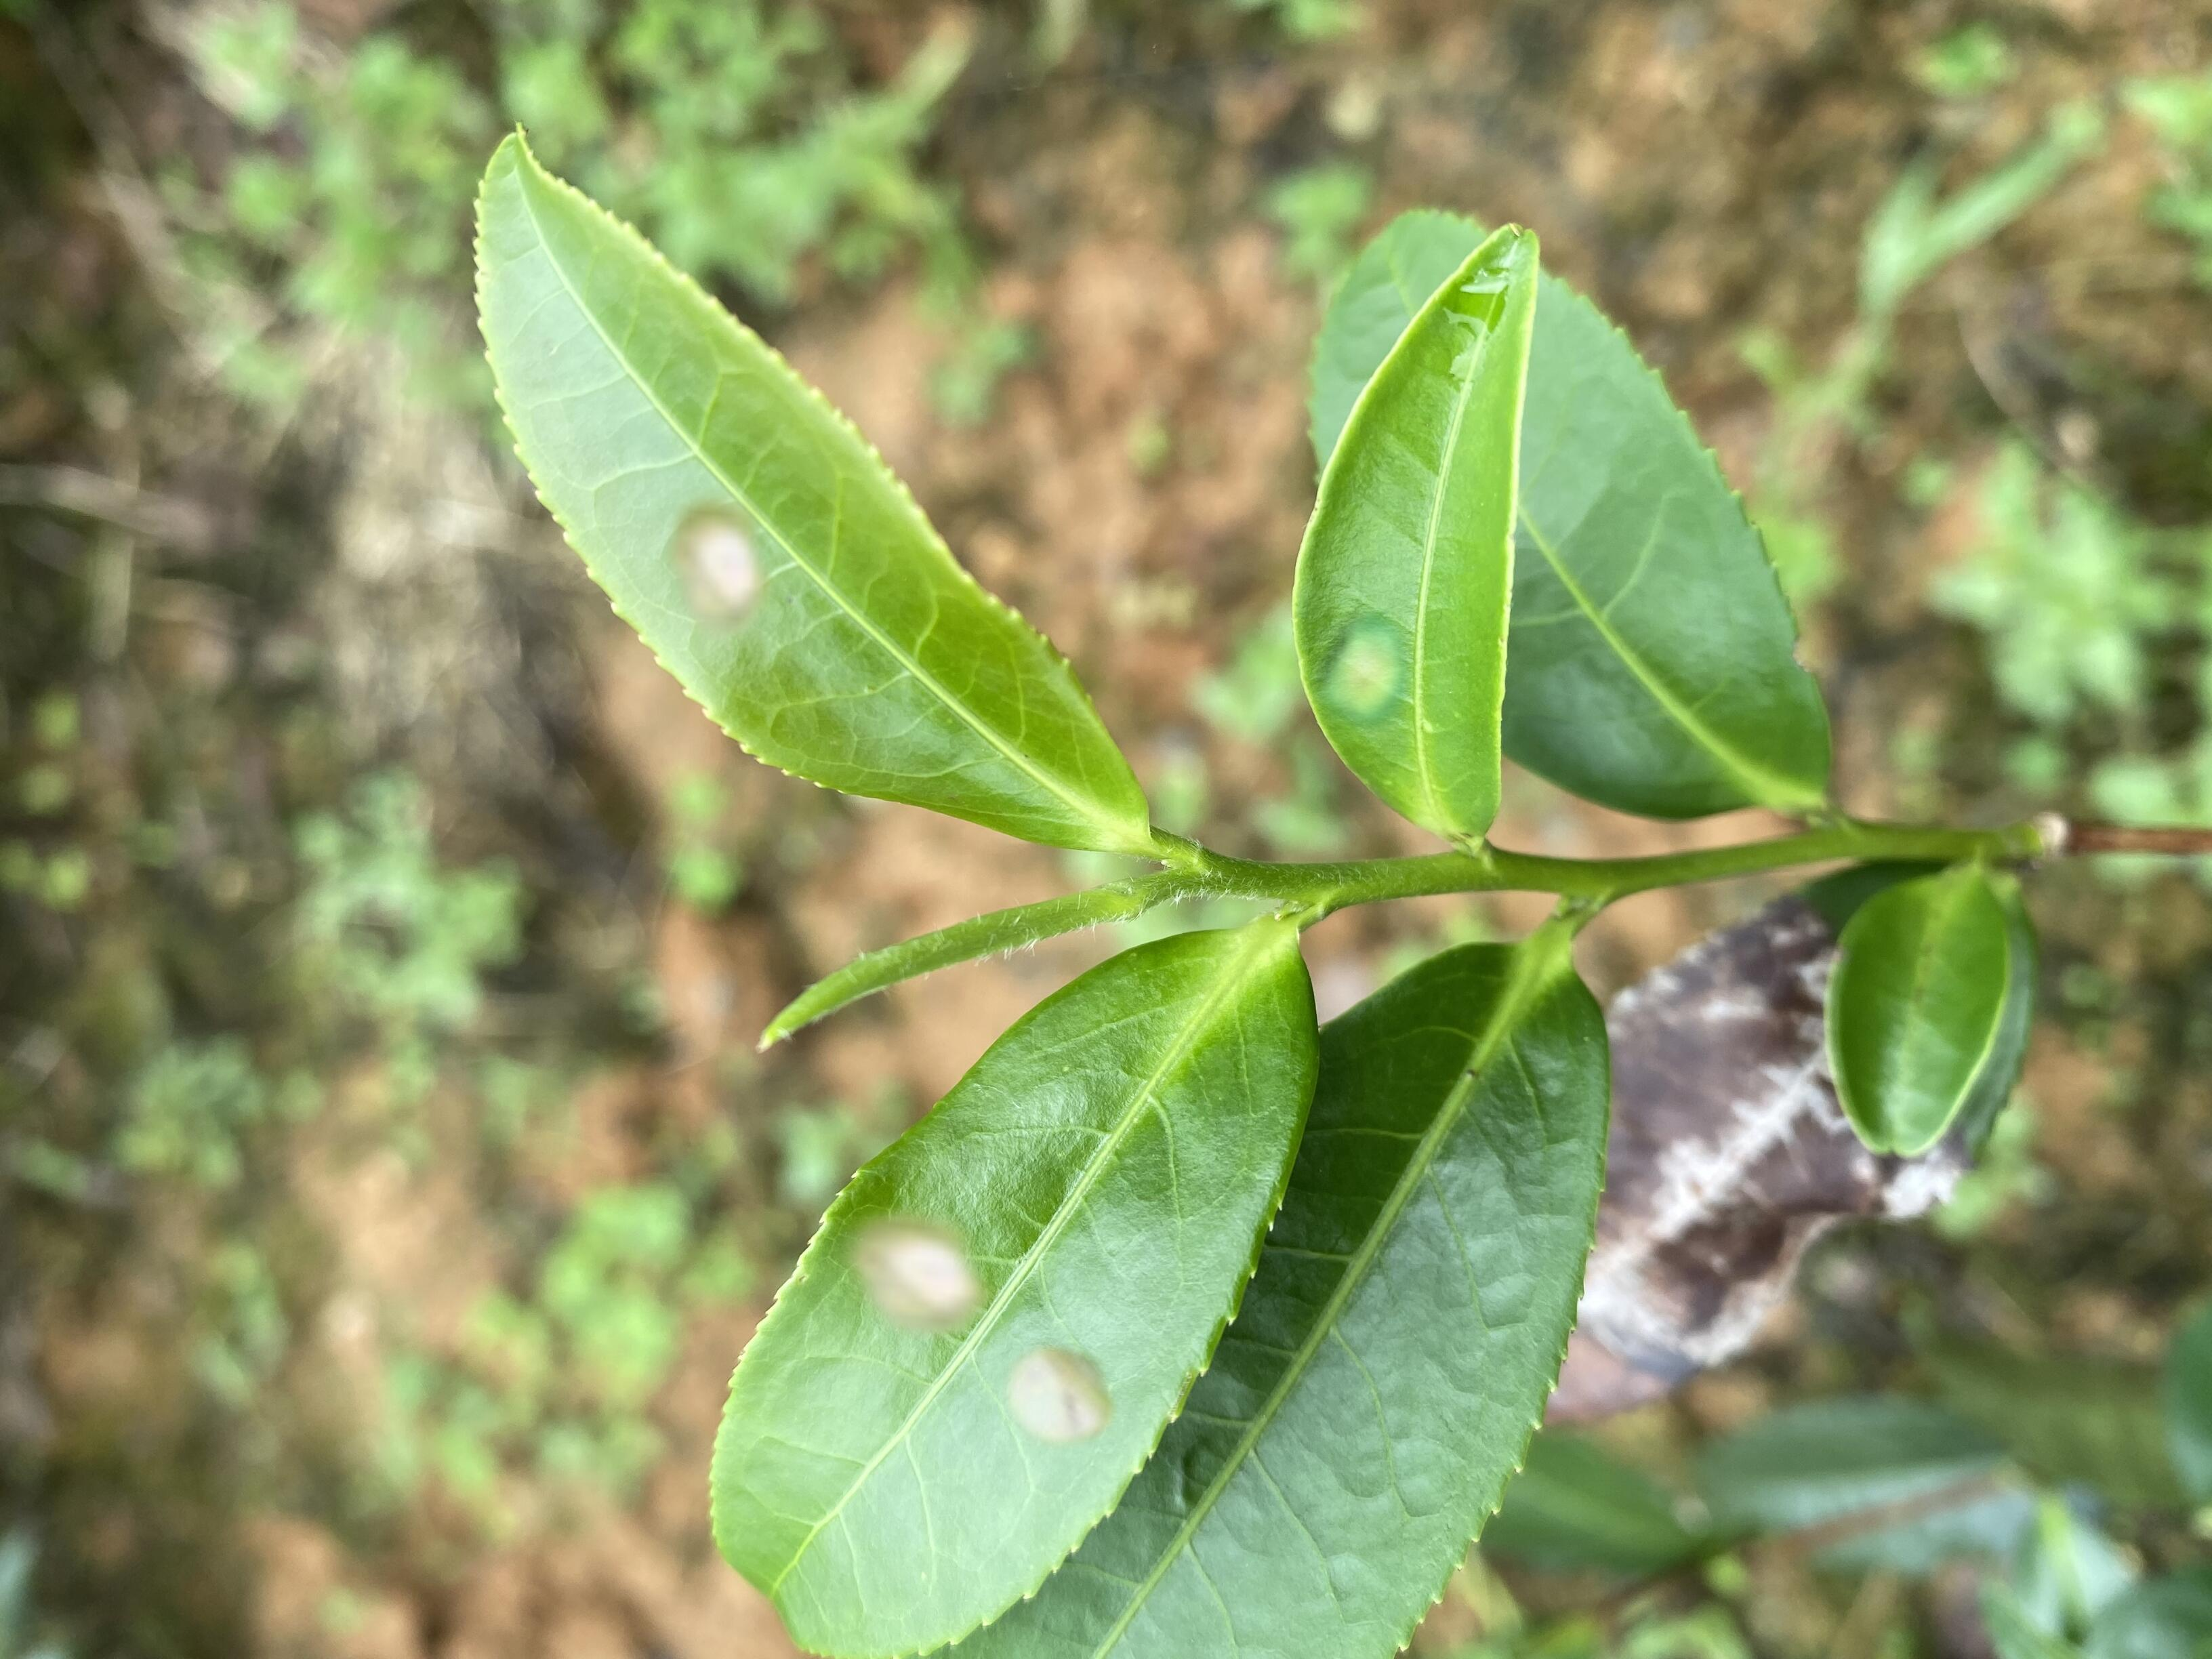chabing_high: (707, 924, 1320, 1656)
chabing_low: (470, 122, 1157, 856), (1292, 223, 1543, 847)
